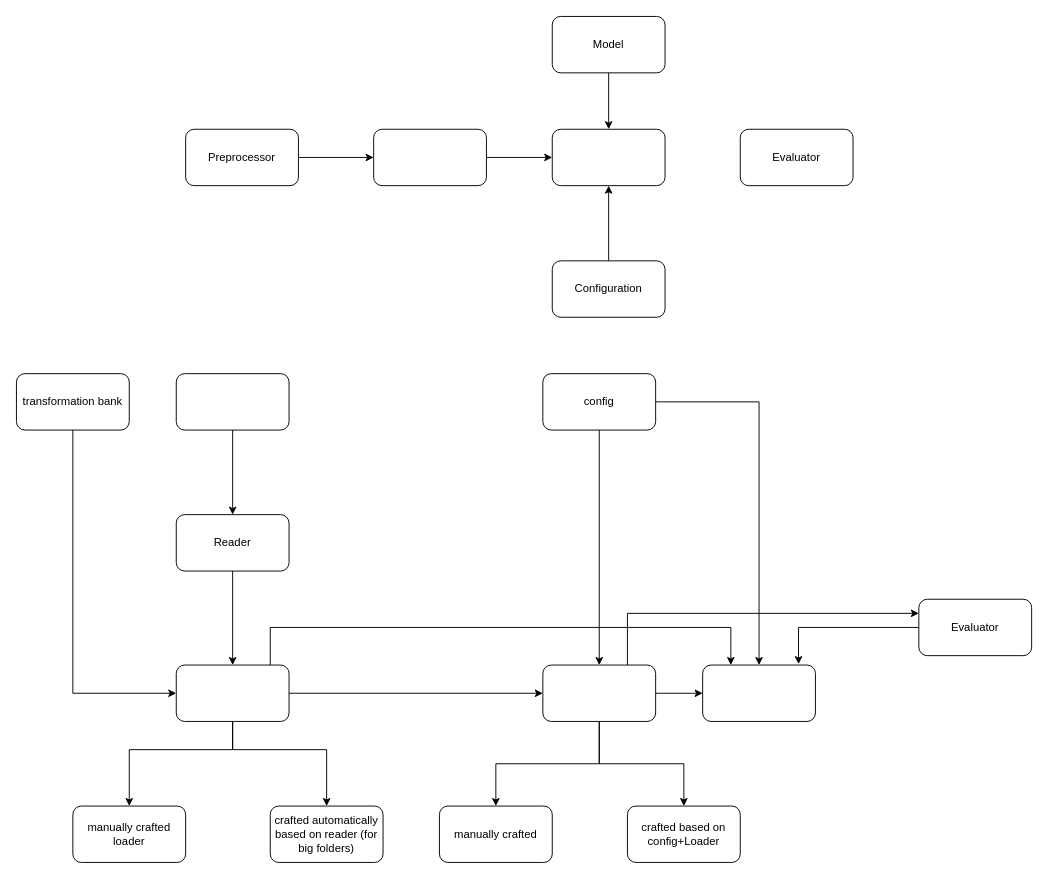
The diagram is 1048 pixels wide and 879 high, and some of its shapes have lost their labels. The shapes that lost their labels are listed below. From the top down, each one's centre as x and y in pixels, then its label:
At pixel 429 157: "Sequence_Dataset (Dataset)".
At pixel 608 157: "Trainer".
At pixel 232 401: "datasets".
At pixel 232 692: "Loader".
At pixel 599 692: "M odel".
At pixel 758 692: "Train".
